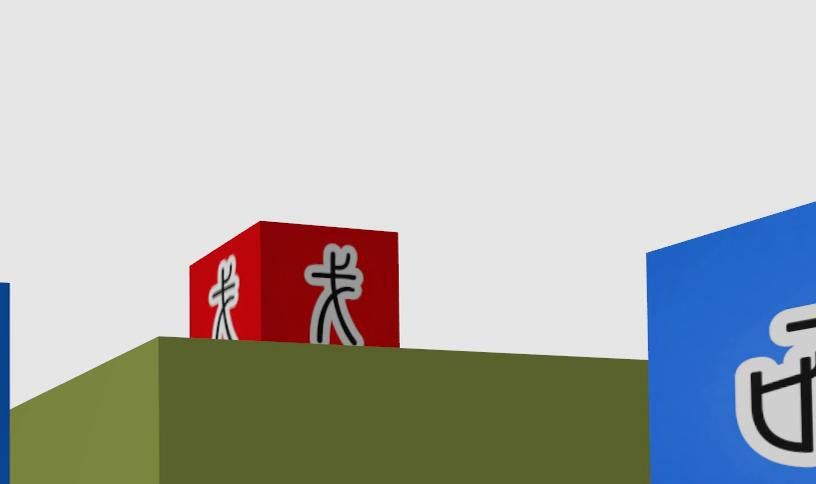KFS_FAKE: (190, 221, 399, 345), (304, 244, 363, 344), (208, 255, 240, 339)
KFS_REAL: (648, 203, 815, 484), (734, 304, 815, 466), (0, 286, 8, 484)
